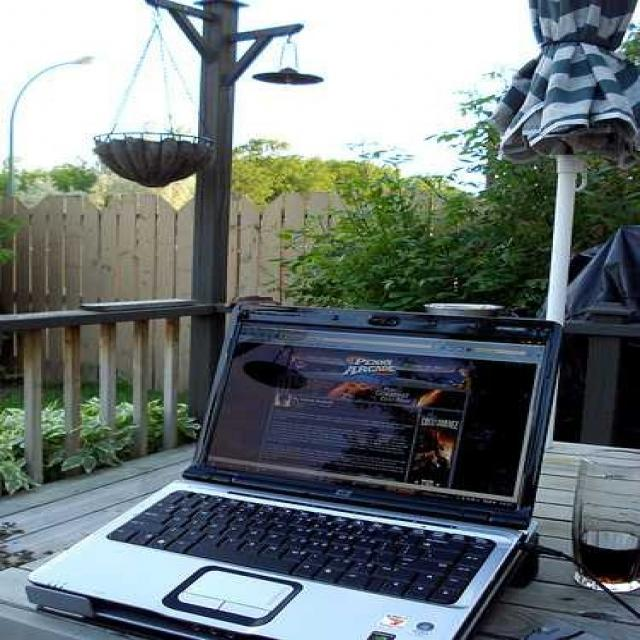laptop: (36, 292, 570, 640)
